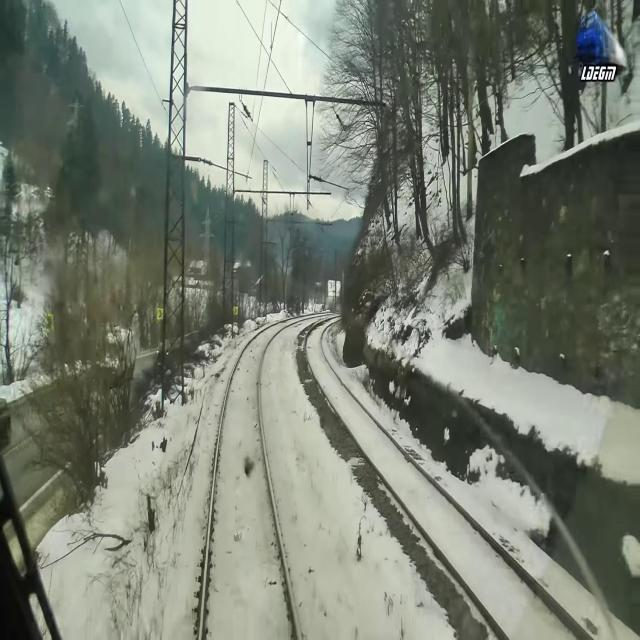rail-track: (306, 321, 587, 639), (203, 322, 297, 639)
